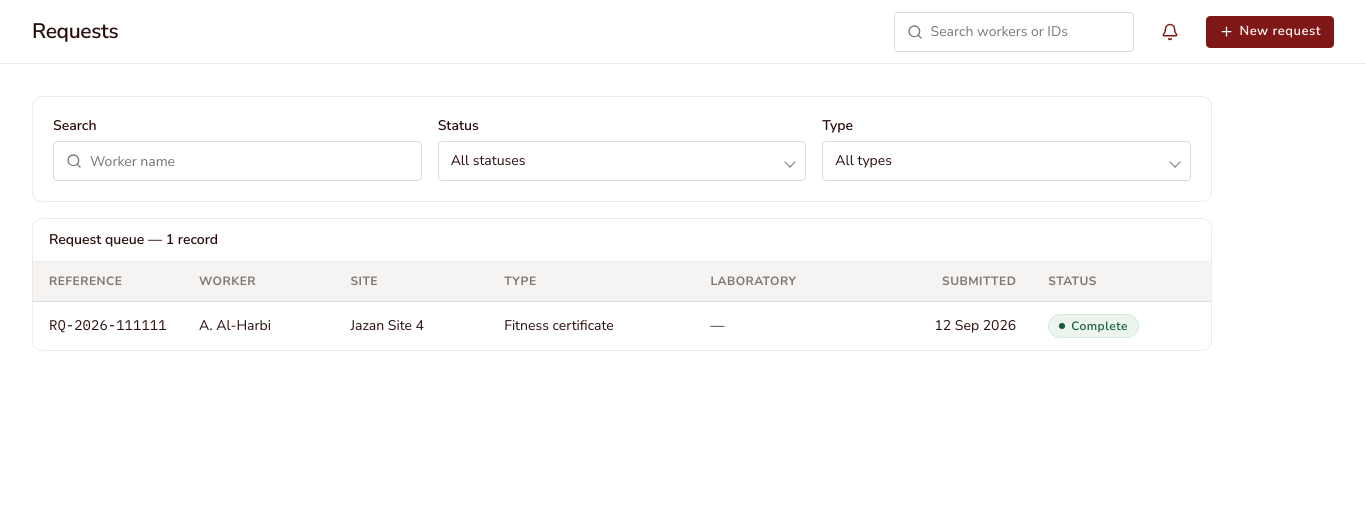
Test: RequestsScreen › shows the no-match empty state and can clear the filters
expect the table is shown: met, box top-left (33, 219), bottom-right (1211, 350)
Select "Complete" in the dropdown labelled "Status" at (622, 161), box top-left (438, 141), bottom-right (806, 181)
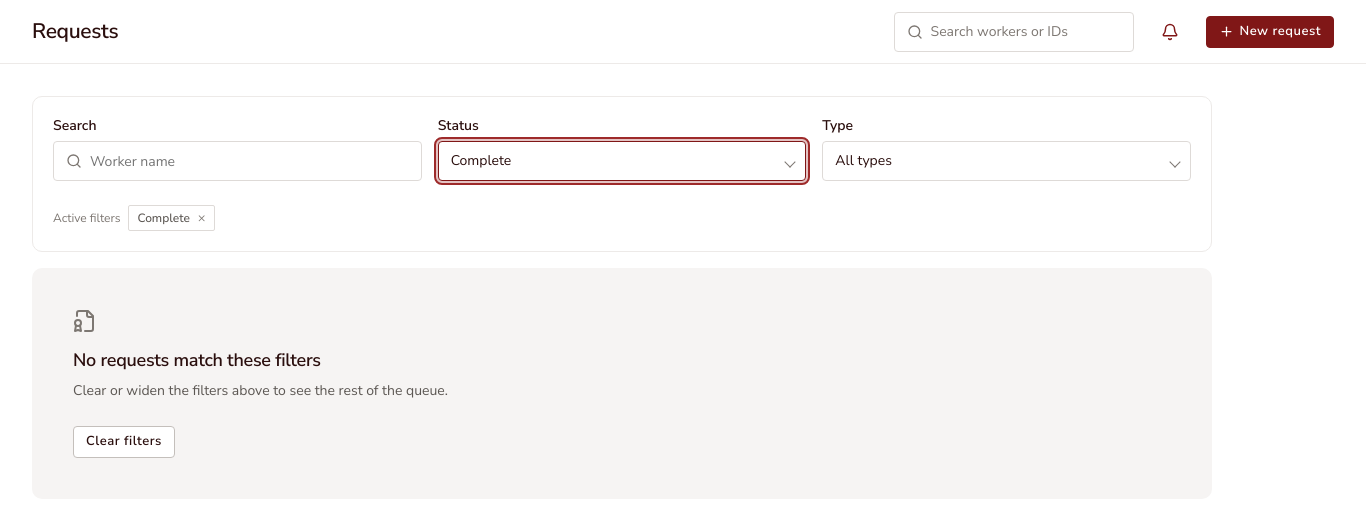
expect the heading "No requests match these filters" is shown: met, box top-left (73, 348), bottom-right (321, 372)
Click the button "Clear filters" at (124, 442), box top-left (73, 426), bottom-right (175, 458)
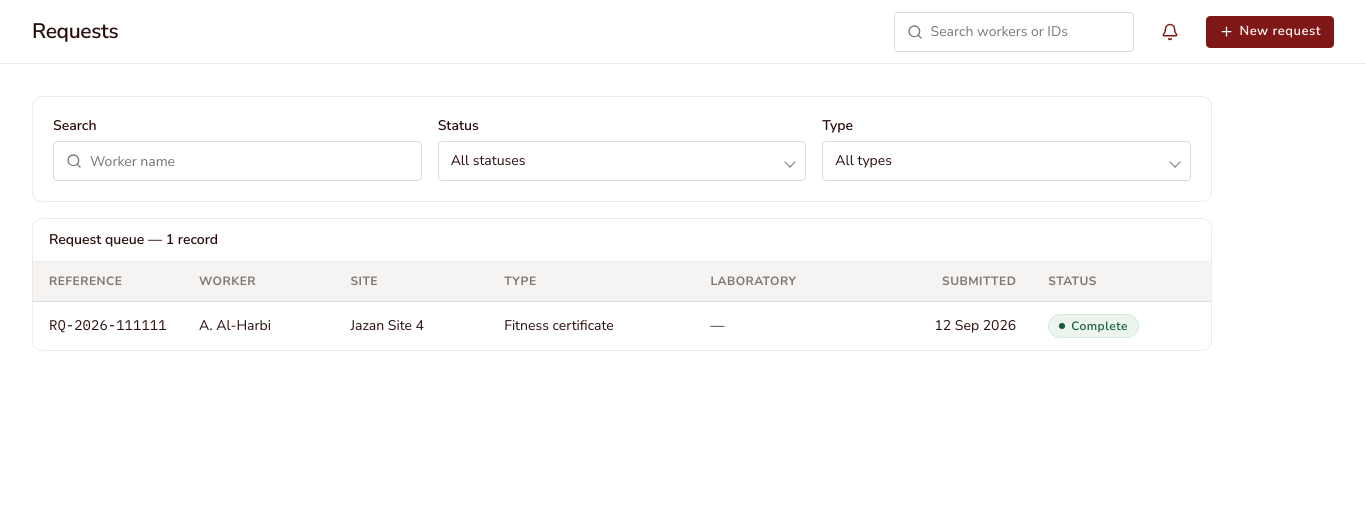
expect the table is shown: met, box top-left (33, 219), bottom-right (1211, 350)
